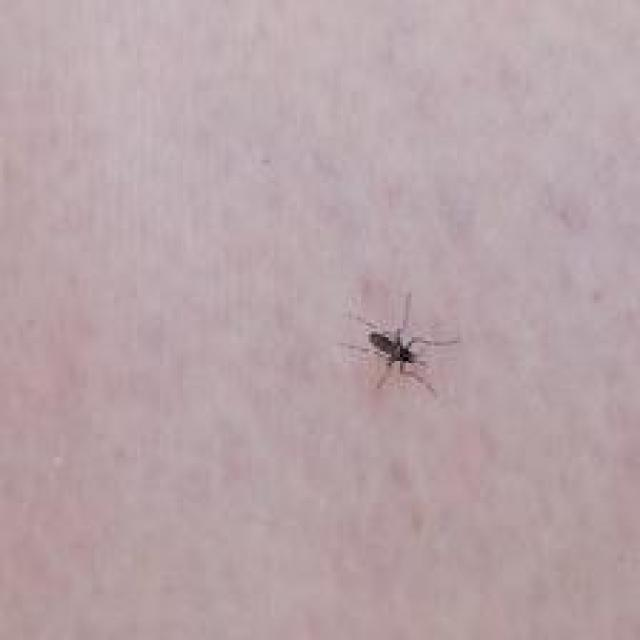Aedes albopictus: (338, 290, 458, 396)
